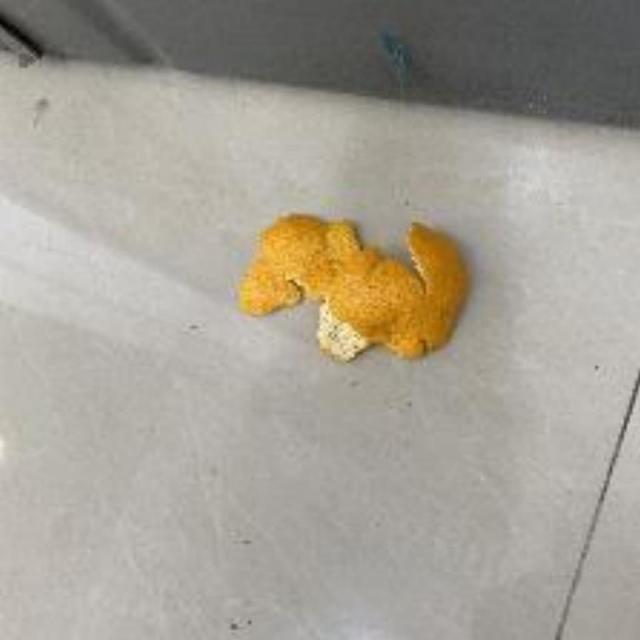orange-peel: (233, 211, 468, 362)
